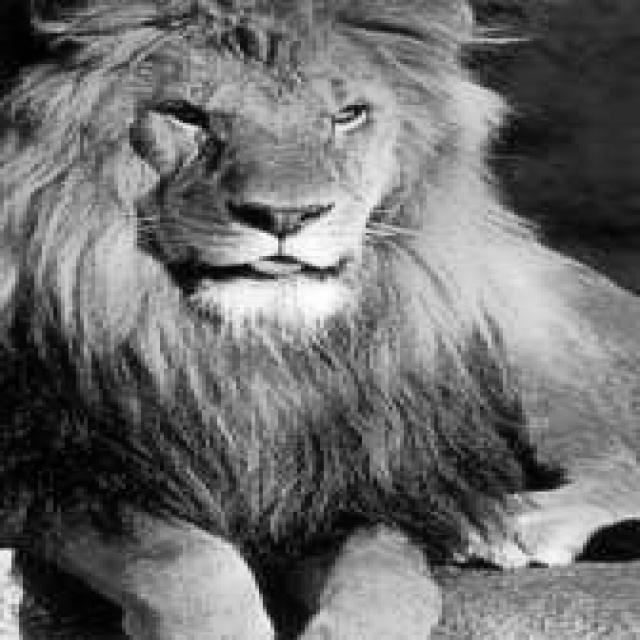Lion: (87, 18, 640, 629)
